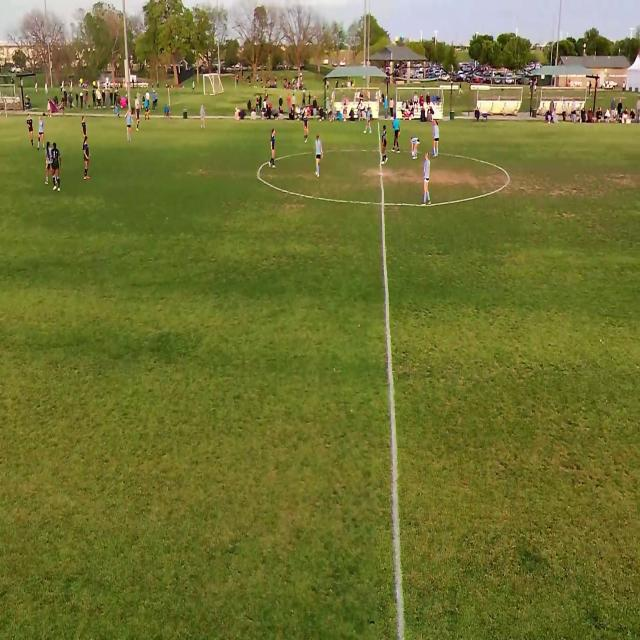ball: (412, 151, 415, 157)
team1: (53, 141, 63, 192), (84, 130, 92, 182), (269, 124, 277, 167), (381, 122, 389, 164), (28, 112, 36, 148), (82, 115, 89, 151), (303, 109, 309, 142), (135, 102, 141, 130)
team2: (421, 149, 432, 207), (314, 134, 324, 178), (47, 139, 56, 187), (434, 118, 442, 160), (39, 114, 47, 149), (410, 137, 420, 161), (366, 105, 373, 135), (127, 110, 133, 142), (200, 105, 207, 131)
